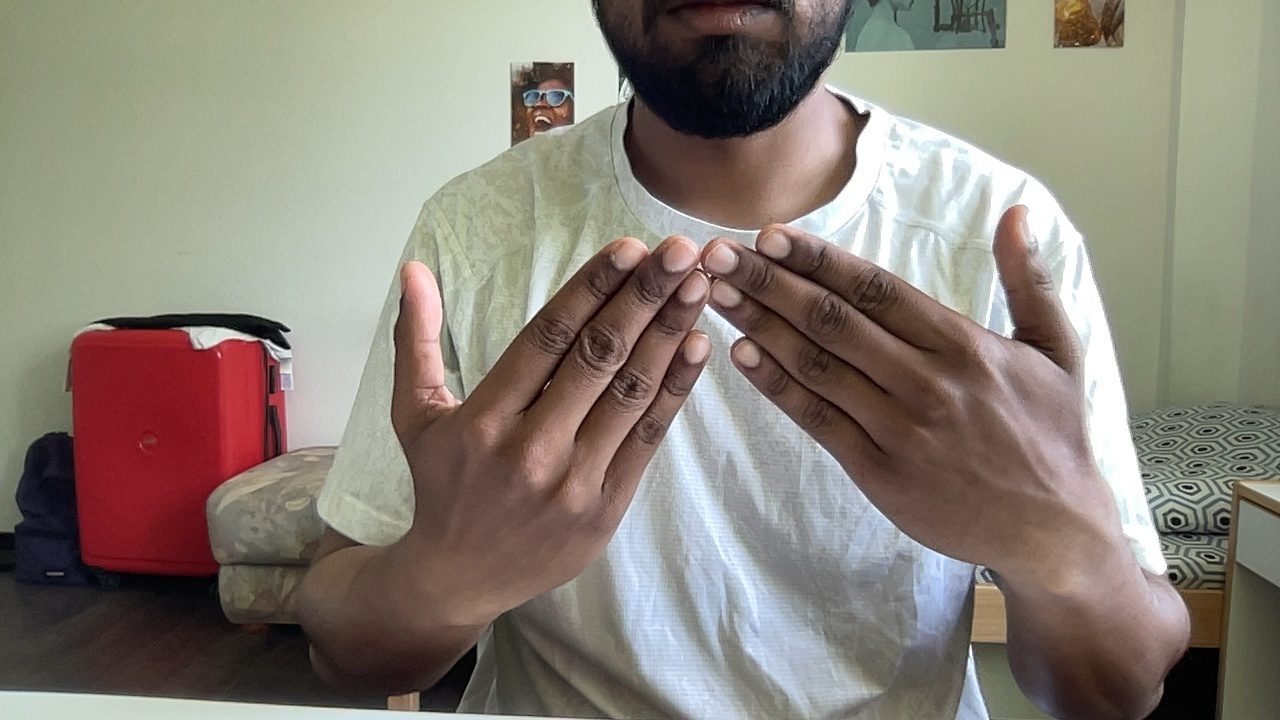ThankYou: (390, 203, 1088, 586)
